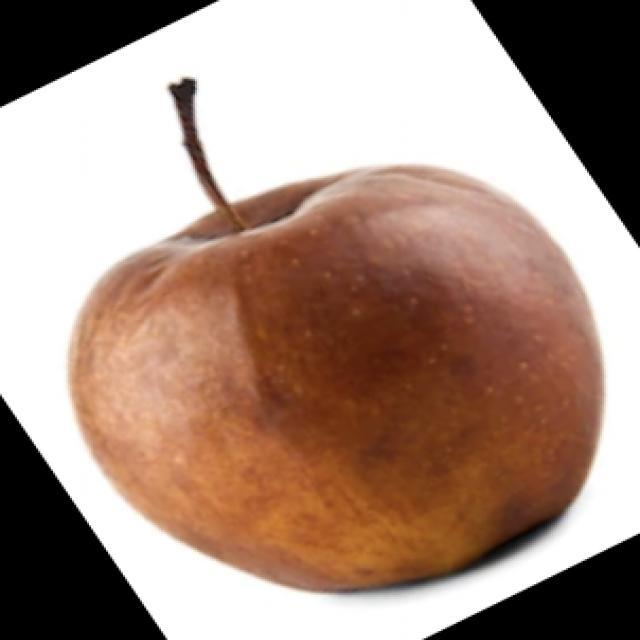Rotten: (85, 160, 617, 572)
